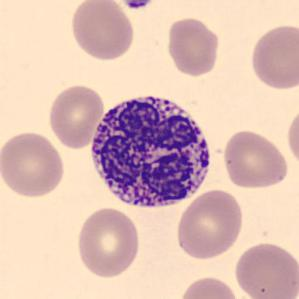Basophil: (84, 85, 220, 215)
Platelets: (120, 0, 156, 11)
RBC: (174, 187, 245, 261), (74, 204, 142, 280), (0, 128, 67, 199), (221, 128, 291, 190), (68, 0, 136, 62), (46, 82, 106, 150), (231, 240, 297, 299), (163, 15, 222, 78), (248, 22, 298, 92), (178, 273, 241, 299), (285, 104, 299, 169)
